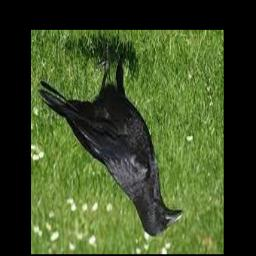Crow: (38, 45, 184, 237)
